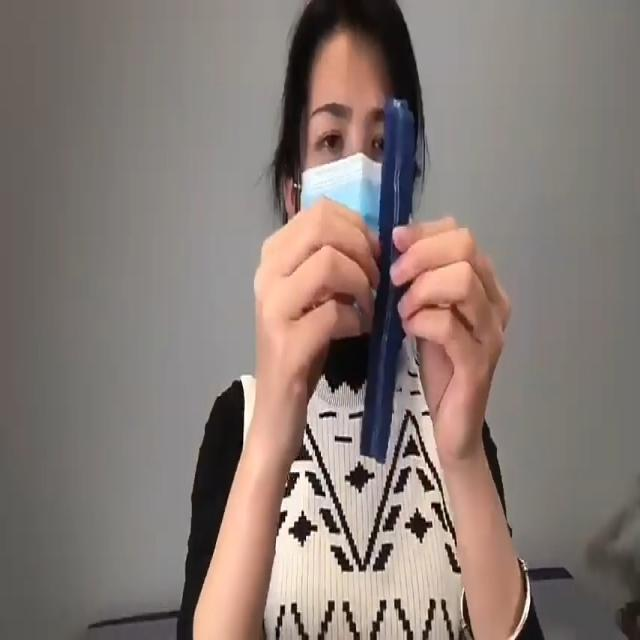Mask: (297, 160, 406, 296)
